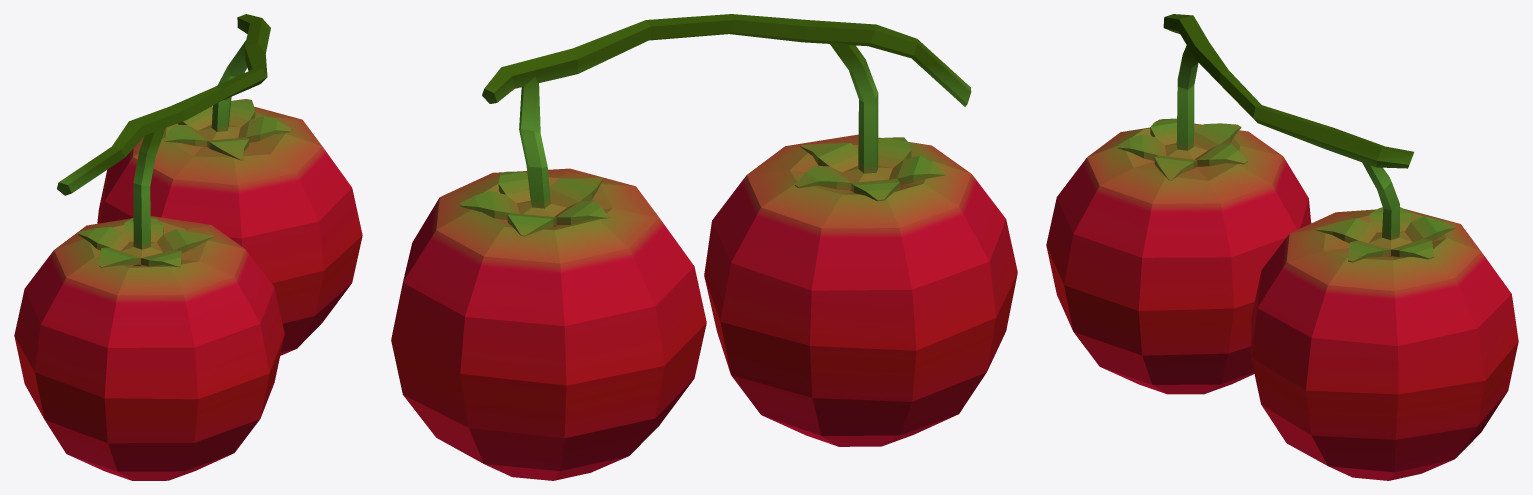
File: tomato.fbx
The picture shows the model from 3 angles, left to right: view 1: azimuth 30°, elevation 25°; view 2: azimuth 150°, elevation 25°; view 3: azimuth 270°, elevation 25°; orthographic projection. The views are drawn at different scales.
Parts seen in each view (by area): view 1: Sphere.016; view 2: Sphere.016; view 3: Sphere.016.
Part boxes in pixels (x1,y1,x2,y2): Sphere.016: (14,14,362,480); Sphere.016: (391,14,1017,480); Sphere.016: (1046,14,1518,480).
Size of the model in its own units: 0.1337 by 0.111 by 0.1346.
1 material, 1 textured.
